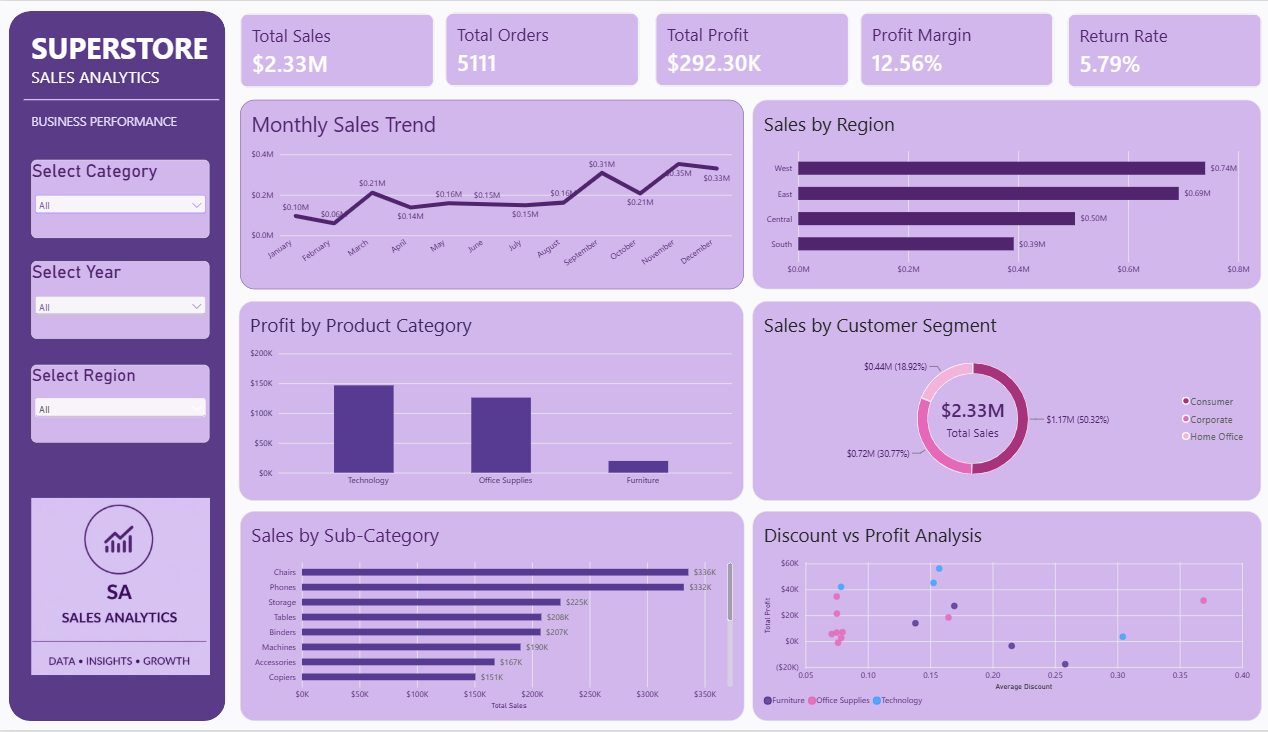

The page's visual inventory and layout, read from the dashboard file:
{"tool":"powerbi","page":{"name":"Page 1","canvas":[1920,1080],"ordinal":0},"visuals":[{"type":"shape","box":[13.5,15.4,321.2,1051.9],"z":0},{"type":"cardVisual","title":"Total Sales","fields":{"Data":["Orders.Total Sales"]},"box":[354.7,18.1,288,110],"z":1000},{"type":"cardVisual","title":"Total Profit","fields":{"Data":["Orders.Total Profit"]},"box":[970,16.3,288,110],"z":2000},{"type":"cardVisual","title":"Total Orders","fields":{"Data":["Orders.Total Orders"]},"box":[658.7,16.3,288,110],"z":3000},{"type":"cardVisual","title":"Profit Margin","fields":{"Data":["Orders.Profit Margin"]},"box":[1274,16.3,287.7,110.4],"z":4000},{"type":"lineChart","title":"Monthly Sales Trend","fields":{"Category":["Orders.Order Date.Variation.Date Hierarchy.Month"],"Y":["Orders.Total Sales"]},"box":[355.8,146.2,746.2,280.8],"z":5000},{"type":"clusteredBarChart","title":"Sales by Region","fields":{"Category":["Orders.Region"],"Y":["Orders.Total Sales"]},"box":[1115.4,146.2,753.8,280.8],"z":6000},{"type":"clusteredBarChart","title":"Sales by Sub-Category","fields":{"Category":["Orders.Sub-Category"],"Y":["Orders.Total Sales"]},"box":[354.7,756.4,747.4,311.3],"z":7000},{"type":"clusteredColumnChart","title":"Profit by Product Category","fields":{"Category":["Orders.Category"],"Y":["Orders.Total Profit"]},"box":[353.8,444.2,748.1,296.2],"z":8000},{"type":"slicer","title":"Select Year","fields":{"Values":["Orders.Order Date.Variation.Date Hierarchy.Year"]},"box":[47.1,385.5,264.2,115],"z":9000},{"type":"slicer","title":"Select Region","fields":{"Values":["Orders.Region"]},"box":[47.1,539.3,264.2,115],"z":10000},{"type":"slicer","title":"Select Category","fields":{"Values":["Orders.Category"]},"box":[47.1,235.3,264.2,115.8],"z":11000},{"type":"cardVisual","fields":{"Data":["Orders.Return Rate"]},"box":[1581.6,18.1,288,110],"z":12000},{"type":"scatterChart","title":"Discount vs Profit Analysis","fields":{"Category":["Orders.Sub-Category"],"Series":["Orders.Category"],"X":["Orders.Average Discount"],"Y":["Orders.Total Profit"]},"box":[1114.8,756.4,754.6,311.3],"z":13000},{"type":"donutChart","title":"Sales by Customer Segment","fields":{"Category":["Orders.Segment"],"Y":["Orders.Total Sales"]},"box":[1115.4,444.2,753.8,296.2],"z":14000},{"type":"textbox","box":[47.1,38,287.7,175.5],"z":15000},{"type":"shape","box":[34.4,18.1,289.5,255.2],"z":16000},{"type":"image","box":[46.3,713,264.8,309.3],"z":16001}]}

Visuals, with their boxes in screenshot pixels (x1, y1, x2, y2), scaled from the page's 1920x1080 canvas onto the 1268x732 screenshot:
shape: bbox(9, 10, 221, 723)
"Total Sales" cardVisual: bbox(234, 12, 424, 87)
"Total Profit" cardVisual: bbox(641, 11, 831, 86)
"Total Orders" cardVisual: bbox(435, 11, 625, 86)
"Profit Margin" cardVisual: bbox(841, 11, 1031, 86)
"Monthly Sales Trend" lineChart: bbox(235, 99, 728, 289)
"Sales by Region" clusteredBarChart: bbox(737, 99, 1234, 289)
"Sales by Sub-Category" clusteredBarChart: bbox(234, 513, 728, 724)
"Profit by Product Category" clusteredColumnChart: bbox(234, 301, 728, 502)
"Select Year" slicer: bbox(31, 261, 206, 339)
"Select Region" slicer: bbox(31, 366, 206, 443)
"Select Category" slicer: bbox(31, 159, 206, 238)
cardVisual - Orders.Return Rate: bbox(1045, 12, 1235, 87)
"Discount vs Profit Analysis" scatterChart: bbox(736, 513, 1235, 724)
"Sales by Customer Segment" donutChart: bbox(737, 301, 1234, 502)
textbox: bbox(31, 26, 221, 145)
shape: bbox(23, 12, 214, 185)
image: bbox(31, 483, 205, 693)
